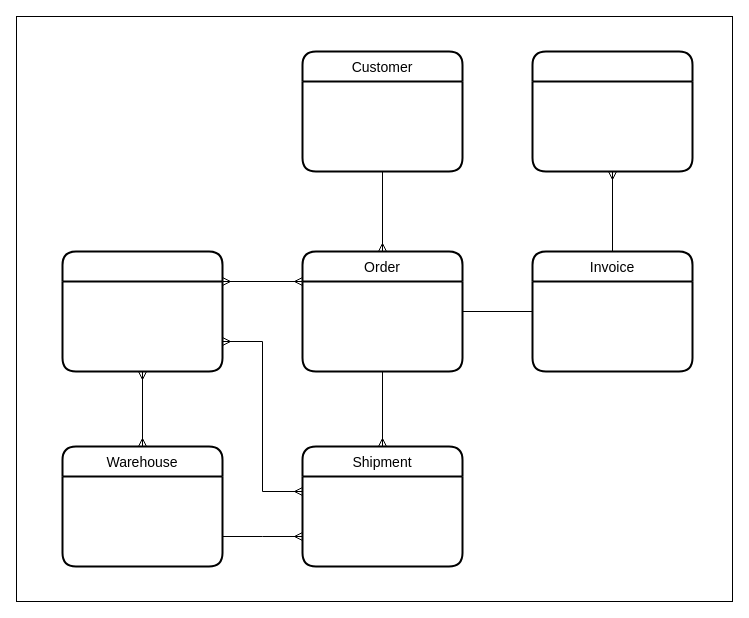
This 749x618 diagram has some shape labels left out. The centre of each missing label's shape, as x and y in pixels:
Payment: the point at 612,111
Product: the point at 142,311
